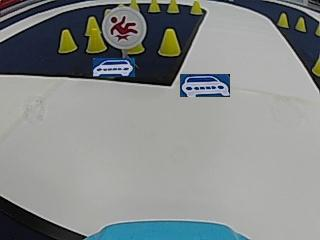cone: (158, 28, 181, 57), (57, 28, 77, 53), (85, 29, 105, 53), (276, 11, 289, 28), (190, 0, 202, 15), (295, 16, 306, 32), (167, 0, 179, 14), (148, 0, 160, 14)
tumble: (106, 10, 143, 43)
